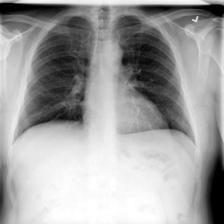normal: (7, 10, 199, 149)
